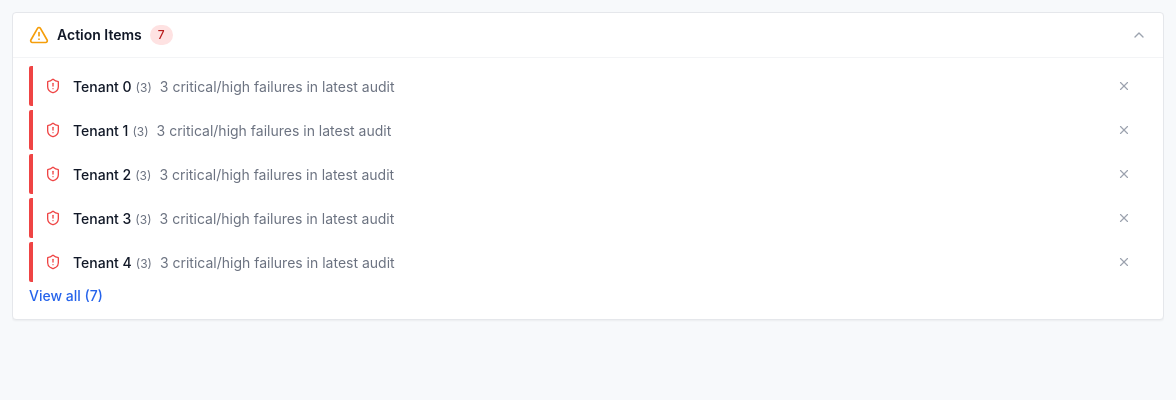
ActionQueue › clicking 'View all' shows all items
Click the button "View all (7)".
click(66, 296)  # box [29,286,103,306]
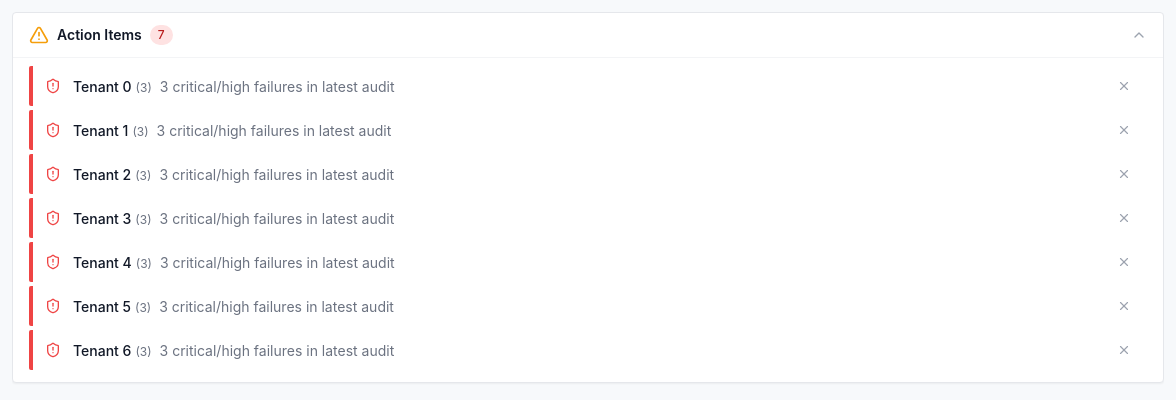
Expected: the text "Tenant 5" is shown, [73,298,131,315]
Expected: the text "Tenant 6" is shown, [73,342,131,359]
